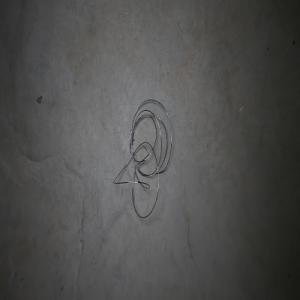Wire: (113, 99, 172, 218)
